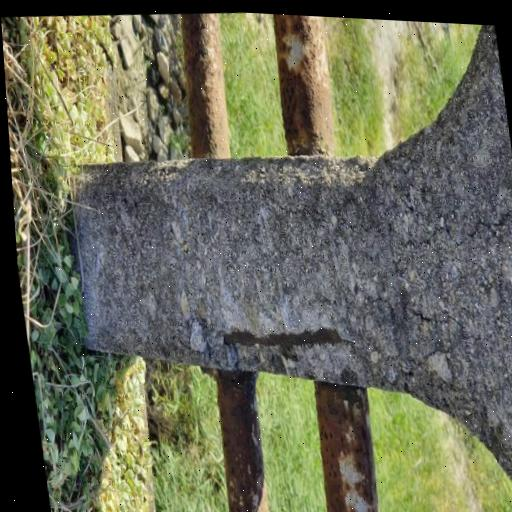exposed_rebar: (223, 327, 343, 349)
